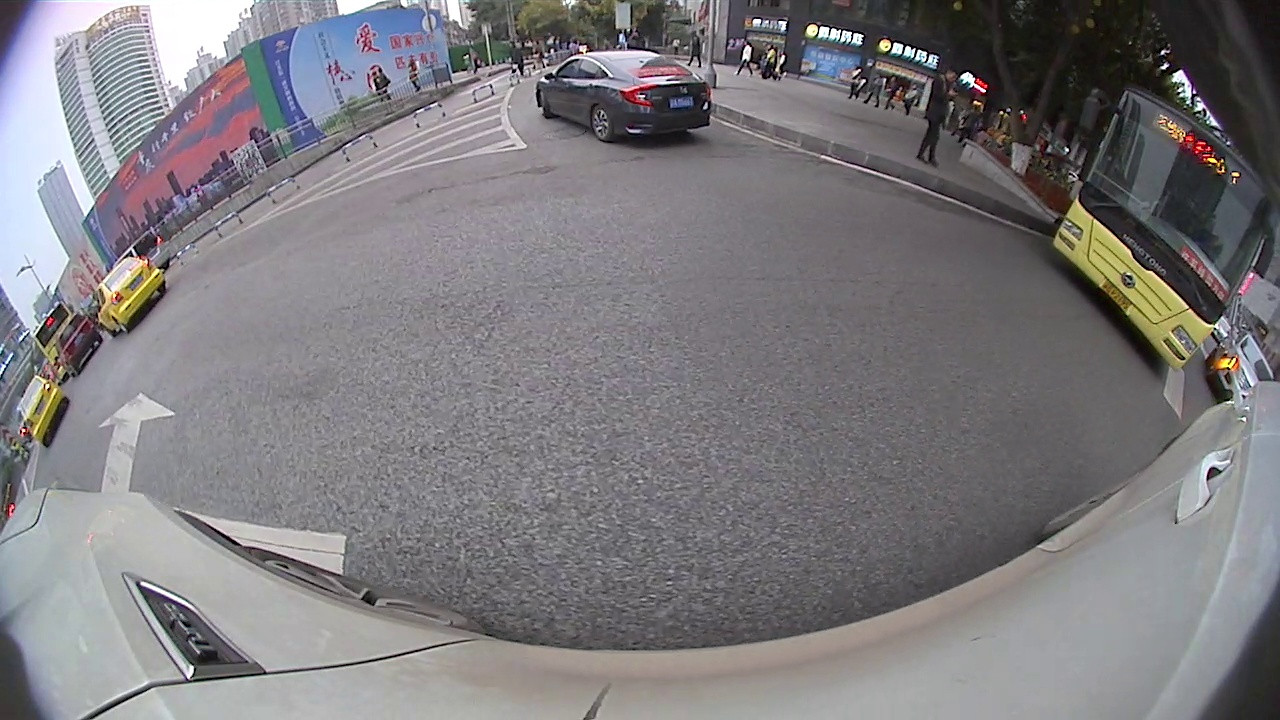bus: (1046, 73, 1279, 380)
car: (530, 43, 716, 149), (91, 256, 174, 335), (1205, 328, 1275, 408), (15, 373, 75, 446), (54, 311, 105, 374)
person: (926, 63, 962, 167)
rear: (587, 106, 614, 143)
